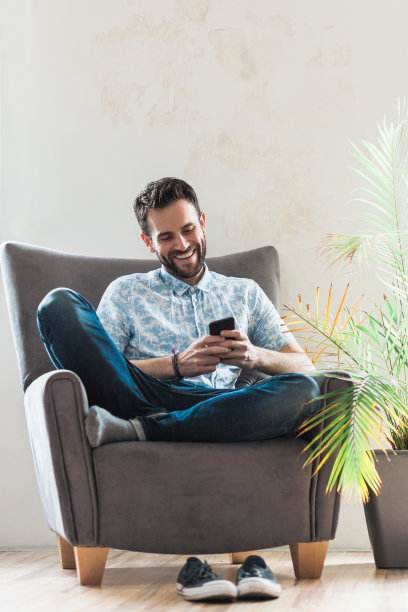reading: (178, 311, 257, 379)
